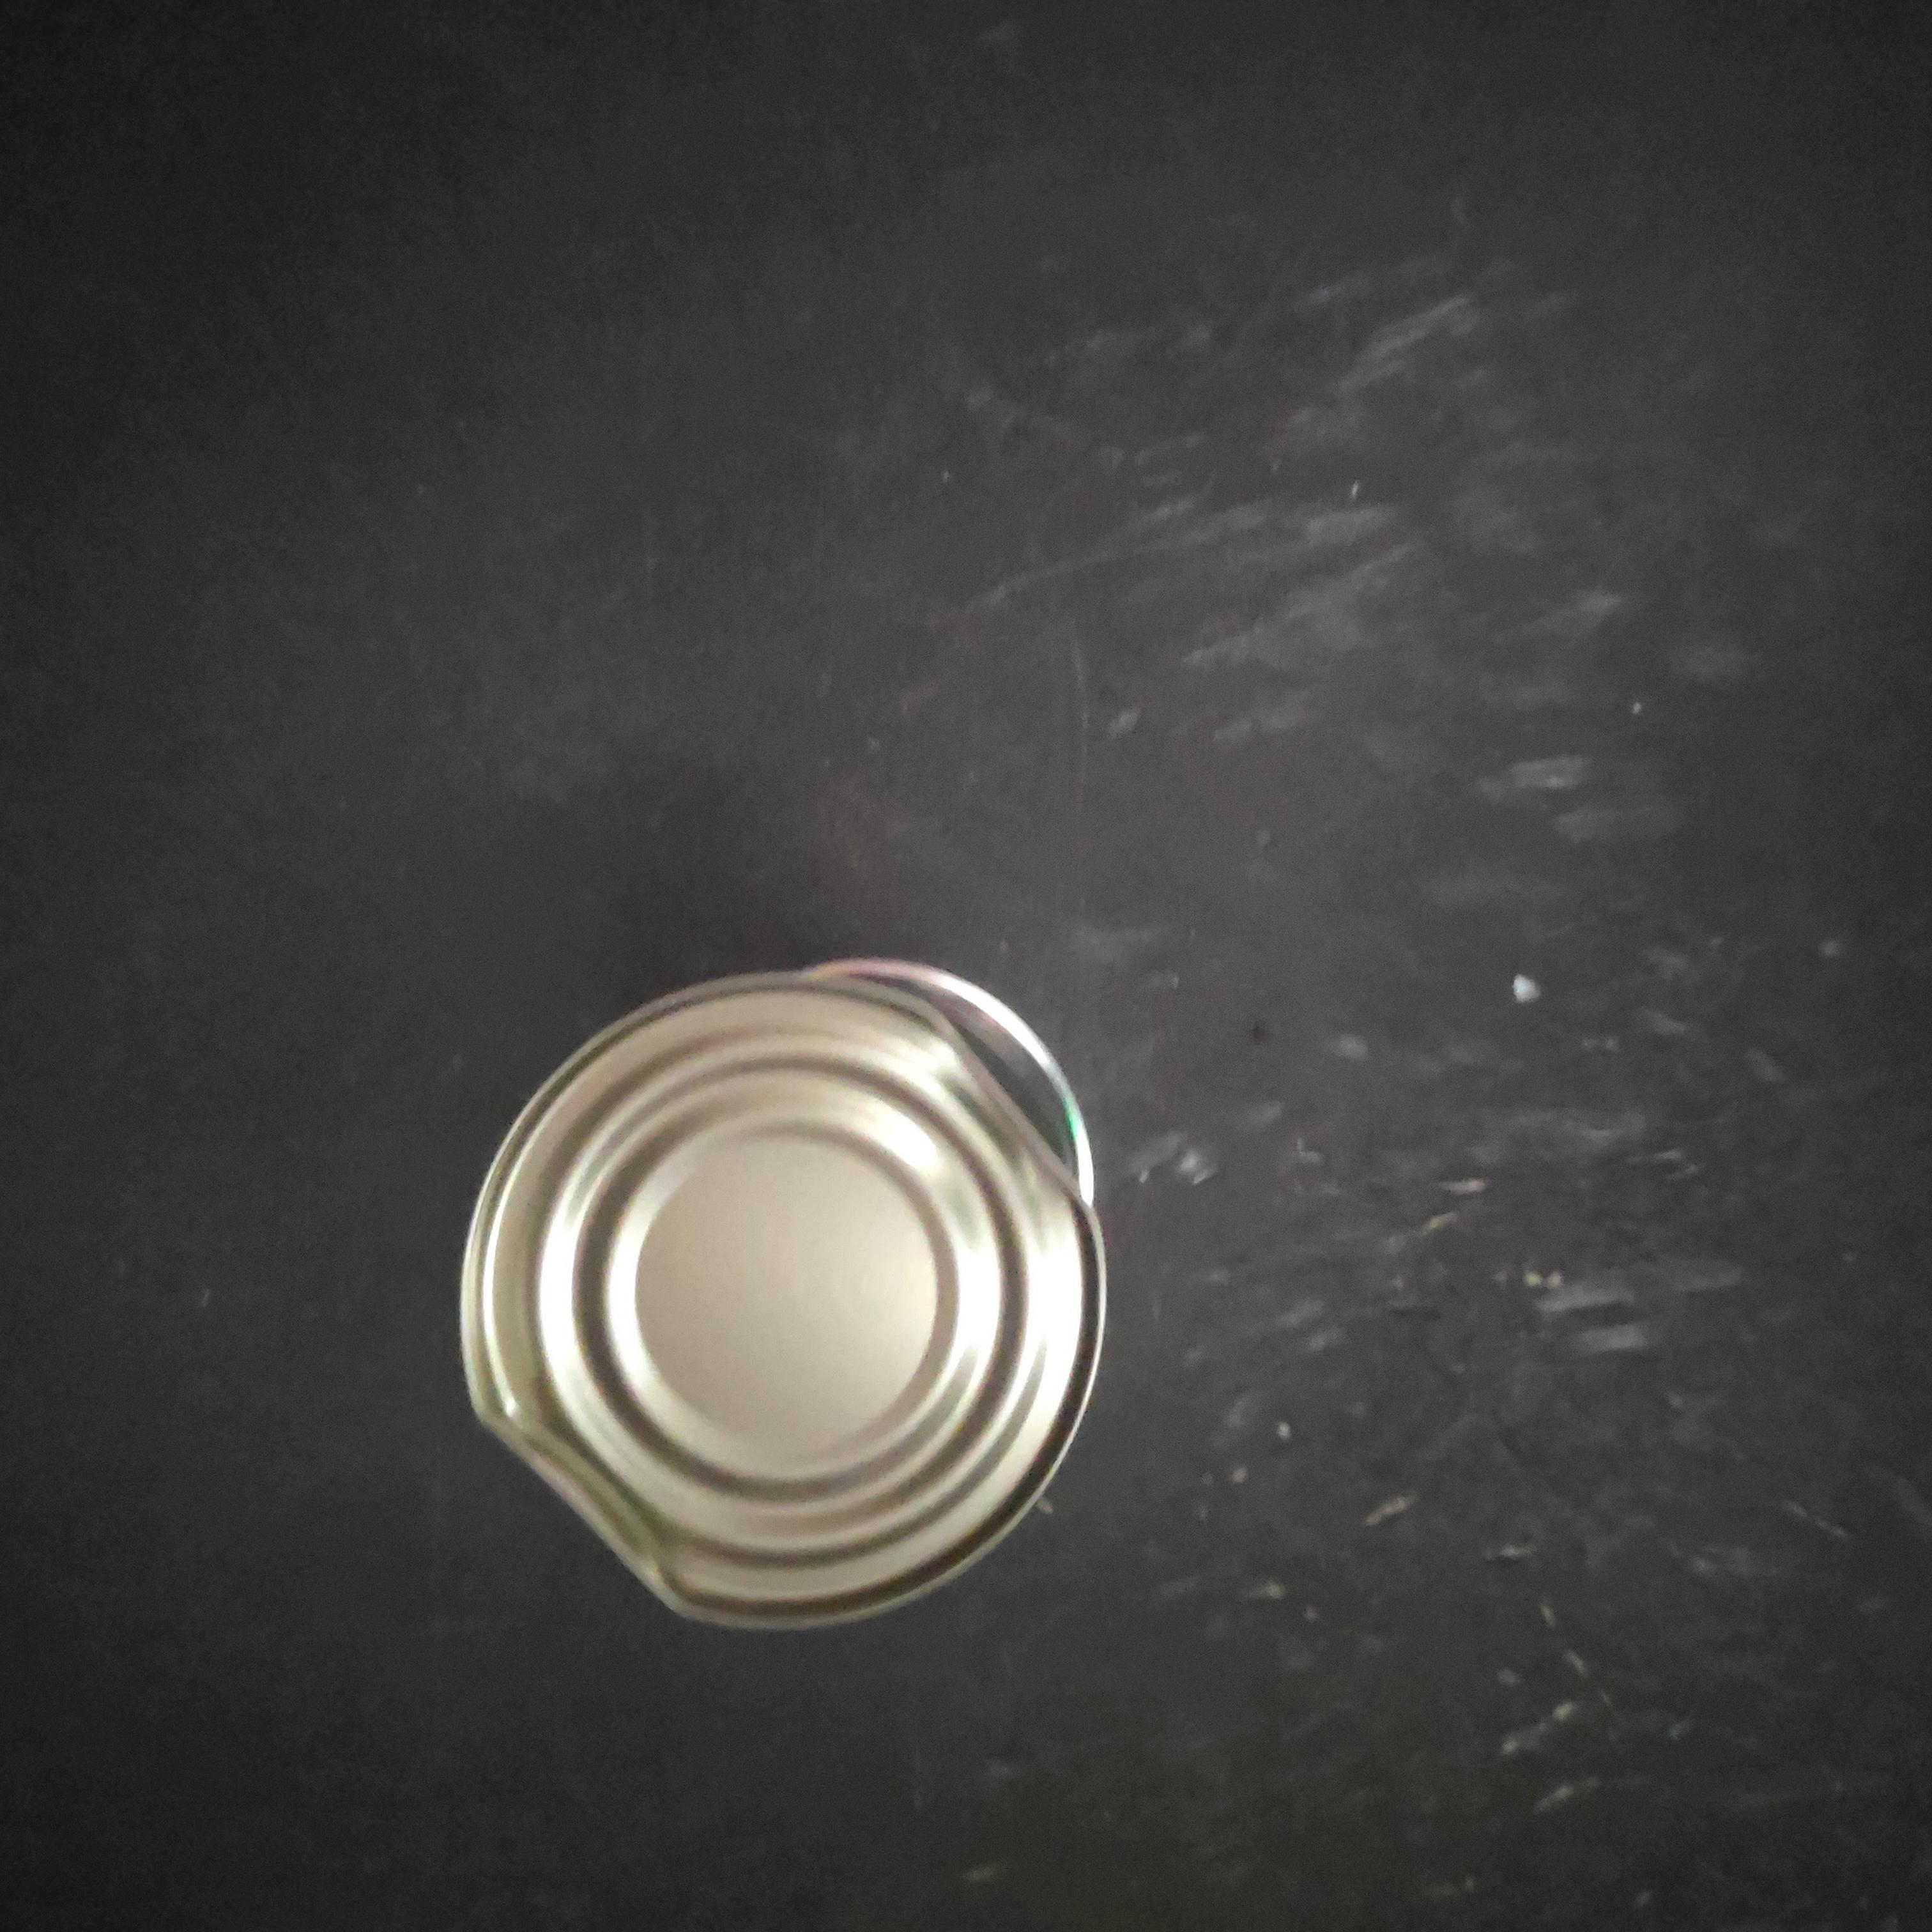Minor Defect: (816, 281, 1491, 982)
